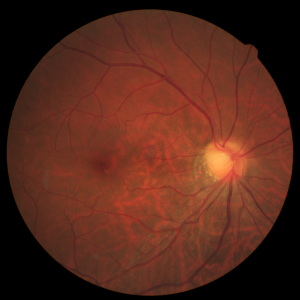glaucoma: (86, 104, 265, 221)
